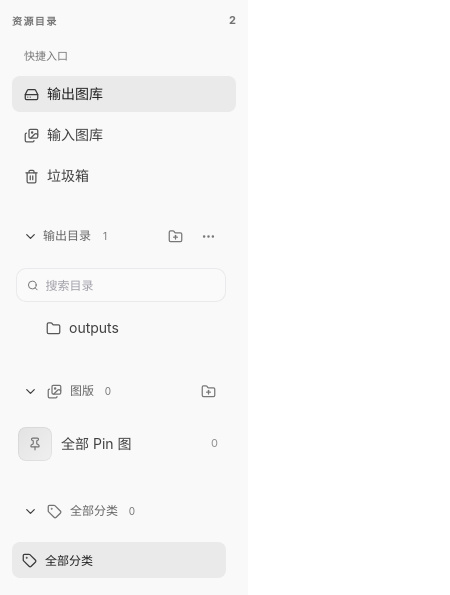
Test: WorkspaceSidebar folder tree › keeps active source styling and folder header actions accessible
The width and height of the screenshot is (450, 595).
Check: the 1st element with class "ue-sidebar-subactions" is shown, box [161,222,222,250]
Click the button named "更多操作".
click(208, 236)  # box [194,222,222,250]
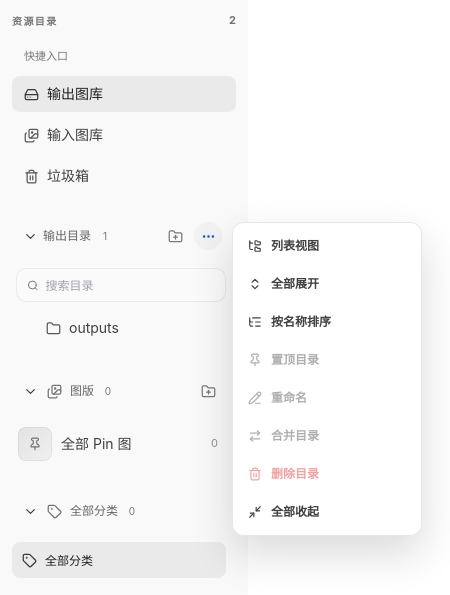
Check: the button "列表视图" is shown, box [239,229,415,263]
Check: the button "全部展开" is shown, box [239,267,415,301]
